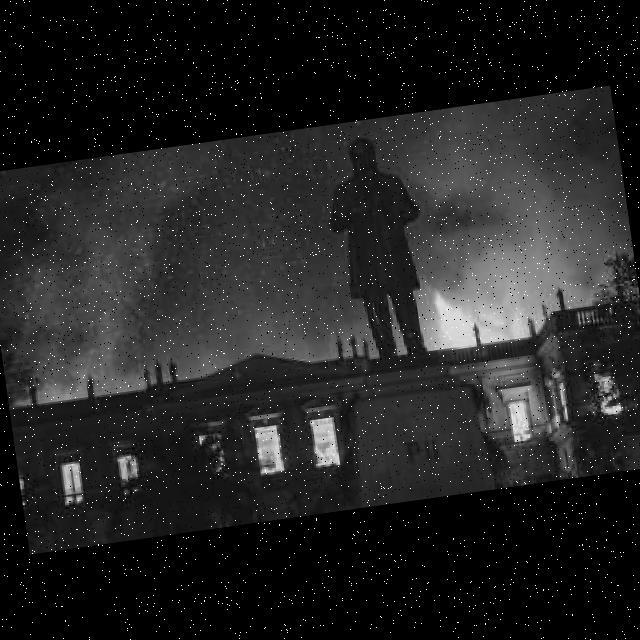Fire: (424, 275, 495, 349), (307, 414, 338, 467), (252, 421, 282, 472), (508, 401, 531, 441), (600, 393, 624, 414)
